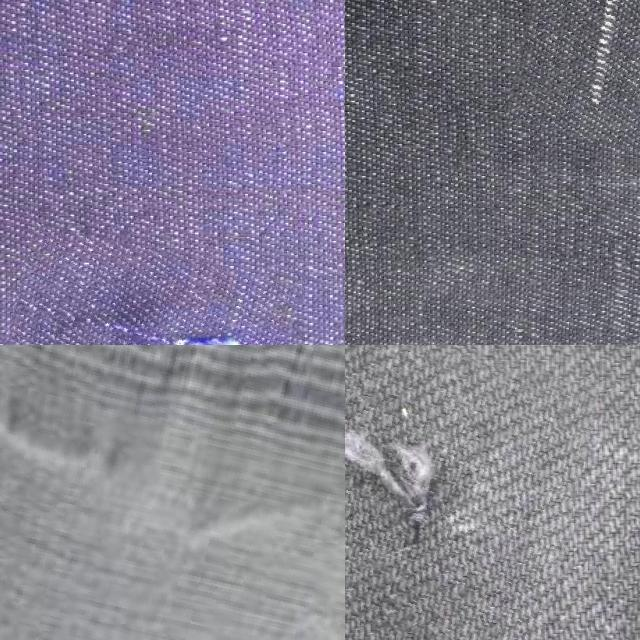stains: (0, 345, 345, 640), (345, 345, 586, 640), (4, 237, 293, 345), (521, 0, 640, 149)
